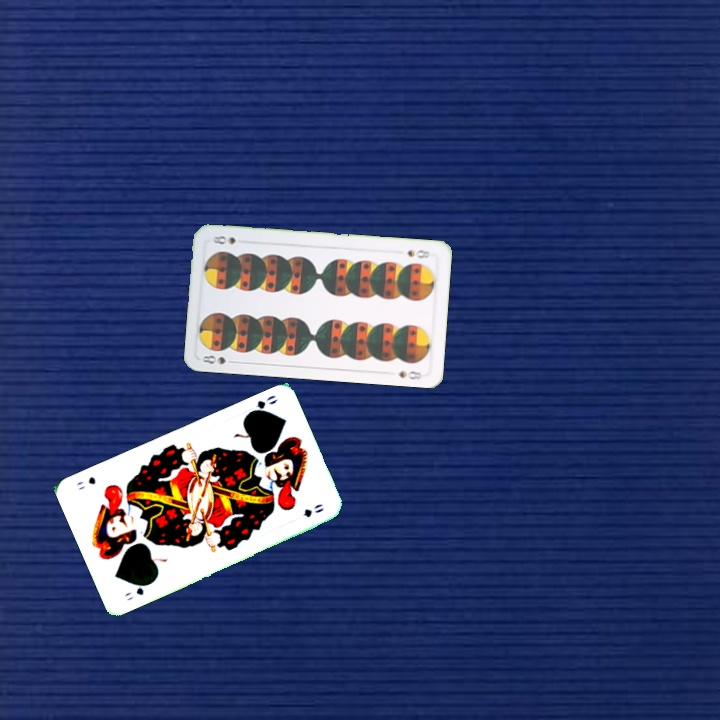GO: (243, 391, 280, 418), (120, 578, 155, 603)
S8: (198, 351, 239, 367), (403, 246, 436, 261)
